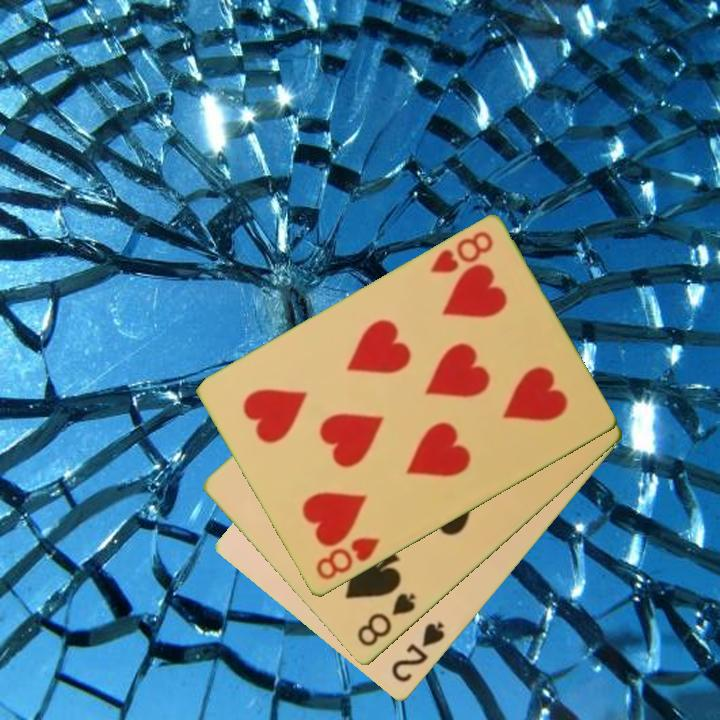2s: (388, 619, 448, 686)
8h: (312, 534, 383, 584), (426, 228, 496, 277)
8s: (353, 590, 419, 650)
